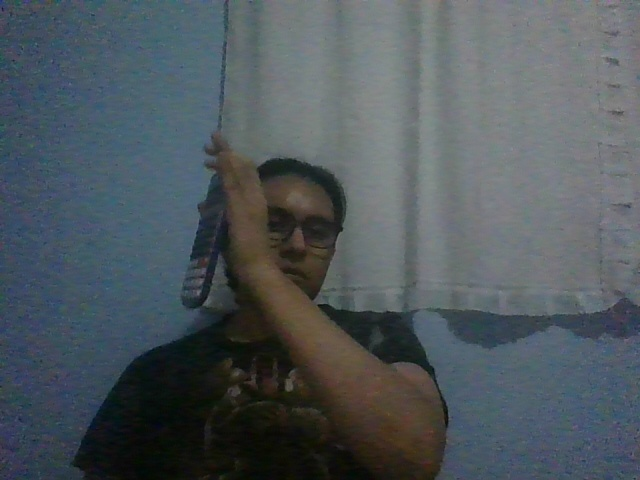calculadora: (180, 173, 228, 310)
